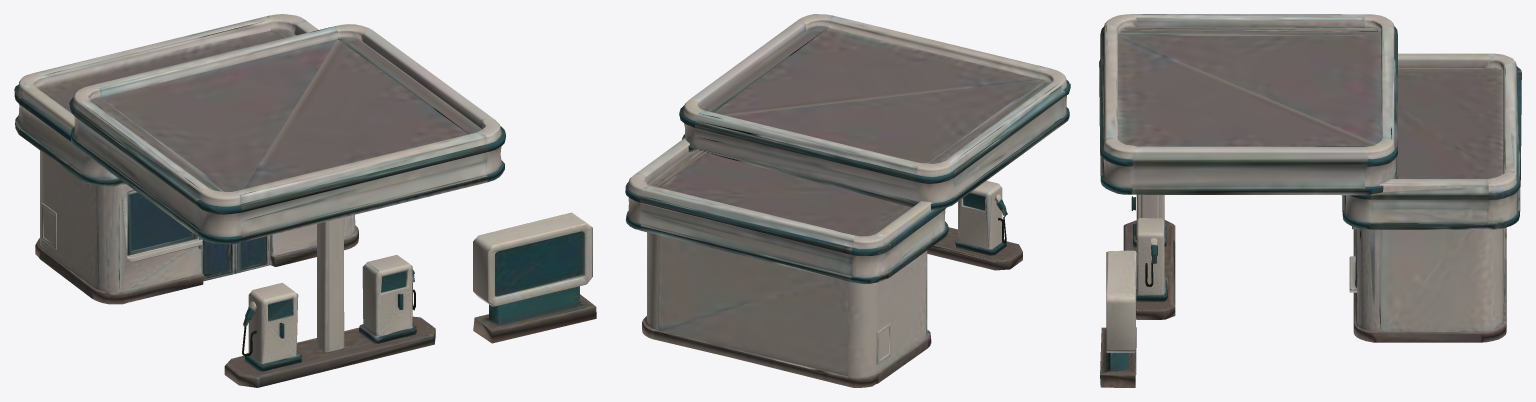
Rendered from 17-gas-station.glb.
The picture shows the model from 3 angles, left to right: view 1: azimuth 30°, elevation 25°; view 2: azimuth 150°, elevation 25°; view 3: azimuth 270°, elevation 25°; orthographic projection. The views are drawn at different scales.
Visible parts, largest first — view 1: geometry_0; view 2: geometry_0; view 3: geometry_0.
Part boxes in pixels (x1=…): geometry_0: x1=14, y1=14, x2=596, y2=387; geometry_0: x1=625, y1=14, x2=1070, y2=387; geometry_0: x1=1099, y1=14, x2=1521, y2=387.
Size of the model in its own units: 0.9511 by 0.4931 by 0.9526.
1 material, 1 textured.
